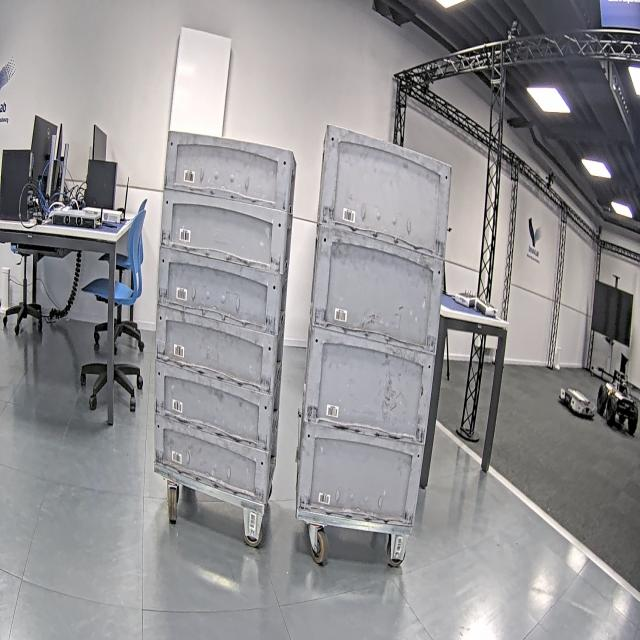Box3G: (156, 242, 288, 343), (152, 410, 278, 510), (154, 352, 280, 452), (153, 298, 286, 392), (159, 188, 290, 278), (166, 126, 292, 217)
Box4G: (318, 121, 453, 262), (316, 220, 442, 360), (306, 323, 437, 445), (298, 413, 424, 531)
